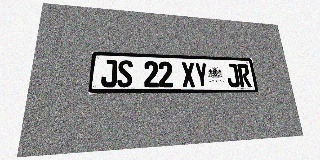2: (144, 61, 159, 87), (158, 61, 173, 87)
J: (100, 59, 117, 87), (225, 63, 240, 87)
R: (237, 64, 252, 87)
S: (117, 60, 133, 87)
X: (181, 62, 196, 87)
Y: (194, 62, 209, 87)
